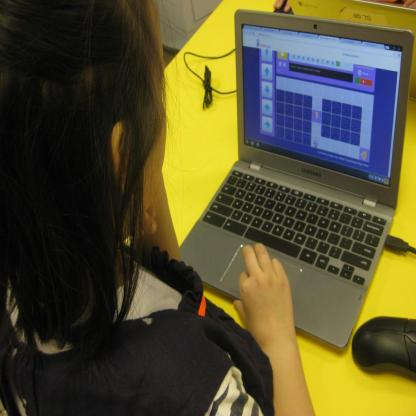board: (190, 0, 409, 361)
